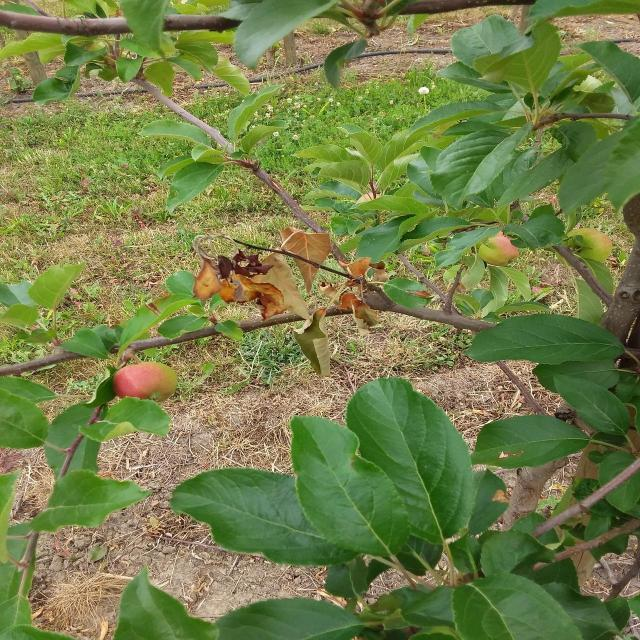-FireBlight-: (180, 232, 382, 362)
